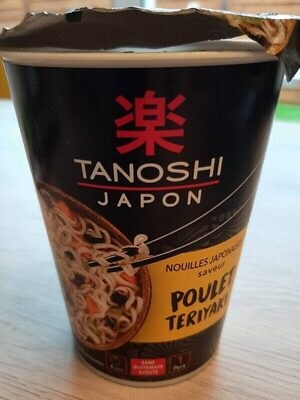Nouilles poulet teriyaki: (15, 20, 285, 380)
